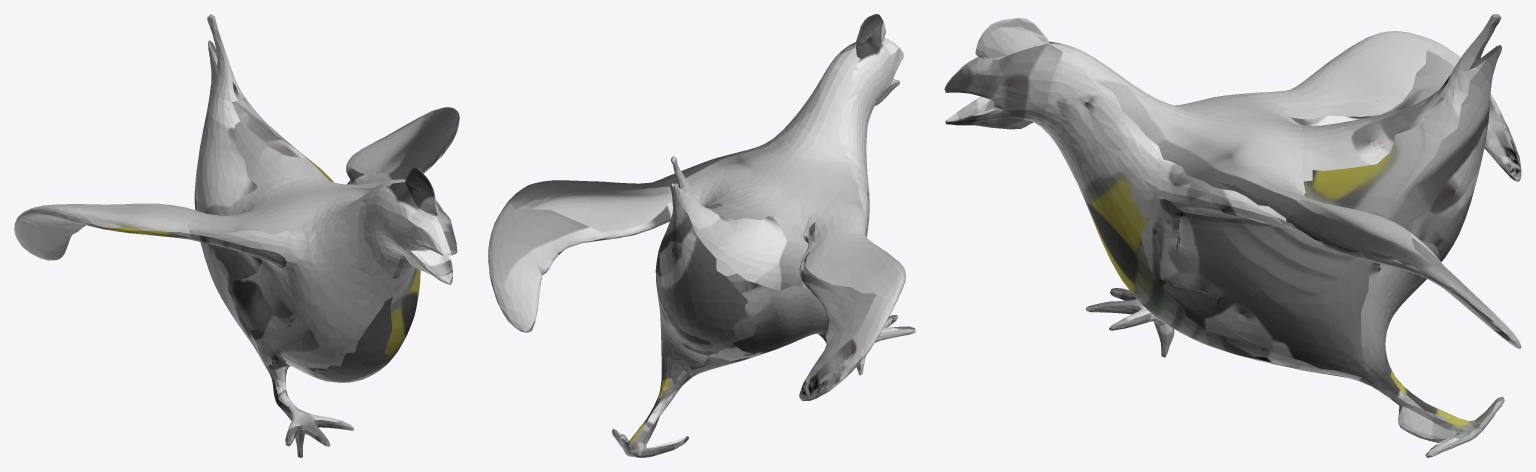
File: prompt_84.obj
3 renders of one model, left to right at view 1: azimuth 30°, elevation 25°; view 2: azimuth 150°, elevation 25°; view 3: azimuth 270°, elevation 25°, orthographic. The views are drawn at different scales.
Visible parts, largest first — view 1: geometry_0_0; view 2: geometry_0_0; view 3: geometry_0_0.
Part boxes in pixels (x1,y1,x2,y2): geometry_0_0: [14, 14, 459, 457]; geometry_0_0: [488, 14, 915, 457]; geometry_0_0: [944, 14, 1521, 457].
Size of the model in its own units: 0.9654 by 0.7629 by 1.
